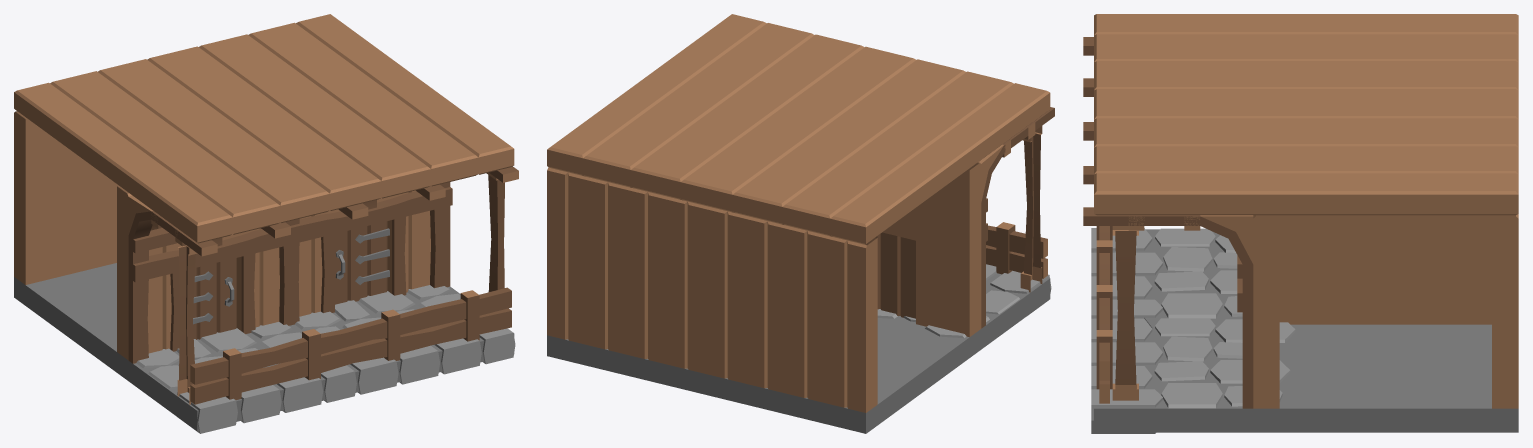
File: LivingRooms_Lvl_02_Straight_Left_Right.fbx
The picture shows the model from 3 angles, left to right: view 1: azimuth 30°, elevation 25°; view 2: azimuth 150°, elevation 25°; view 3: azimuth 270°, elevation 25°; orthographic projection. The views are drawn at different scales.
Visible parts, largest first — view 1: LivingRooms_Lvl_02_Straight_Left_Right; view 2: LivingRooms_Lvl_02_Straight_Left_Right; view 3: LivingRooms_Lvl_02_Straight_Left_Right.
Boxes of the visible parts, x1=… form: LivingRooms_Lvl_02_Straight_Left_Right: x1=14, y1=14, x2=518, y2=433; LivingRooms_Lvl_02_Straight_Left_Right: x1=547, y1=14, x2=1054, y2=433; LivingRooms_Lvl_02_Straight_Left_Right: x1=1083, y1=14, x2=1518, y2=433.
Size of the model in its own units: 8 by 5.05 by 8.2.
